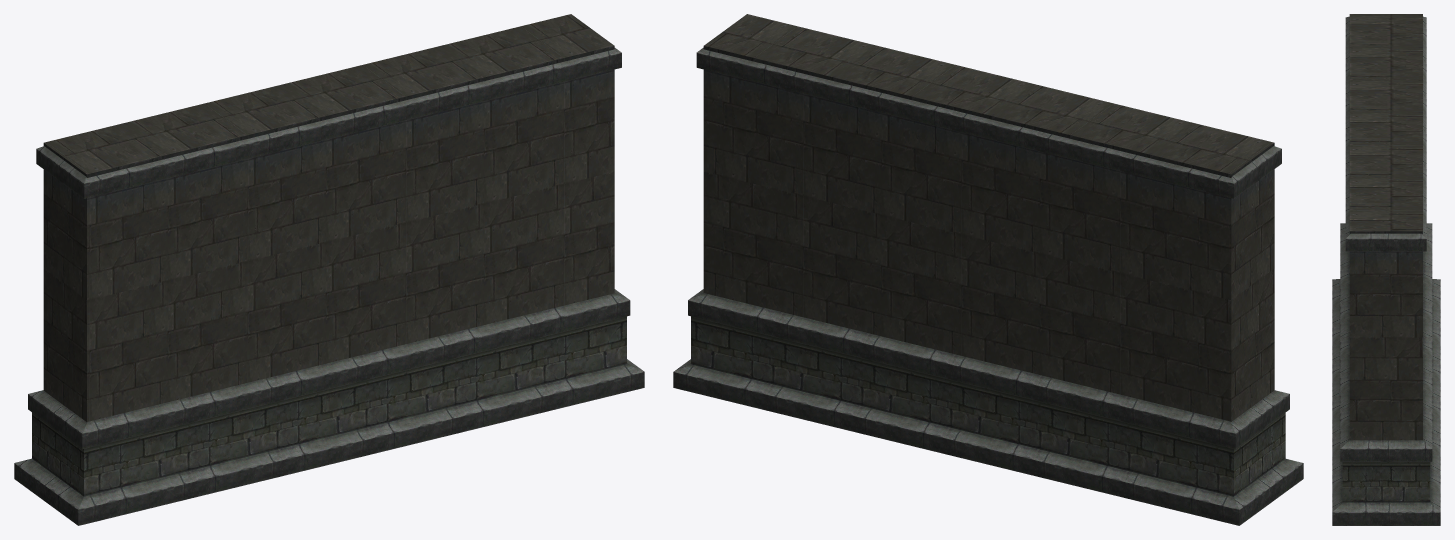
Rendered from environment_Building_shitai_003_a.FBX.
3 renders of one model, left to right at view 1: azimuth 30°, elevation 25°; view 2: azimuth 150°, elevation 25°; view 3: azimuth 270°, elevation 25°, orthographic. The views are drawn at different scales.
Parts seen in each view (by area): view 1: environment_Building_shitai_003_a, environment_Building_shitai_003_b; view 2: environment_Building_shitai_003_a, environment_Building_shitai_003_b; view 3: environment_Building_shitai_003_a, environment_Building_shitai_003_b.
Boxes of the visible parts, x1,y1,x2,y2 form: environment_Building_shitai_003_a: [43, 14, 614, 421]; environment_Building_shitai_003_b: [14, 48, 644, 525]; environment_Building_shitai_003_a: [703, 14, 1274, 421]; environment_Building_shitai_003_b: [673, 47, 1303, 525]; environment_Building_shitai_003_a: [1349, 14, 1422, 440]; environment_Building_shitai_003_b: [1332, 16, 1440, 525].
Size of the model in its own units: 895 by 512 by 176.
